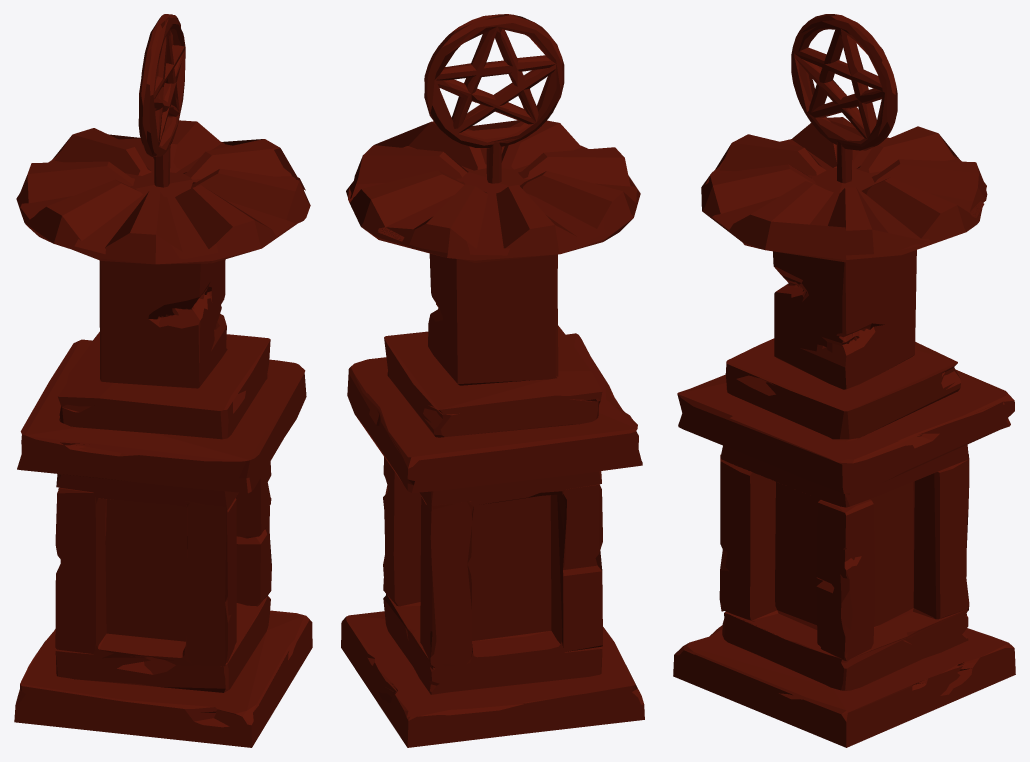
The model's file is marks.obj.
The picture shows the model from 3 angles, left to right: view 1: azimuth 30°, elevation 25°; view 2: azimuth 150°, elevation 25°; view 3: azimuth 270°, elevation 25°; orthographic projection.
Parts seen in each view (by area): view 1: mark; view 2: mark; view 3: mark.
Part boxes in pixels (bbox=[...]): mark: bbox=[14, 14, 312, 747]; mark: bbox=[341, 14, 644, 747]; mark: bbox=[673, 14, 1015, 747].
Size of the model in its own units: 3.79 by 8.01 by 3.79.
